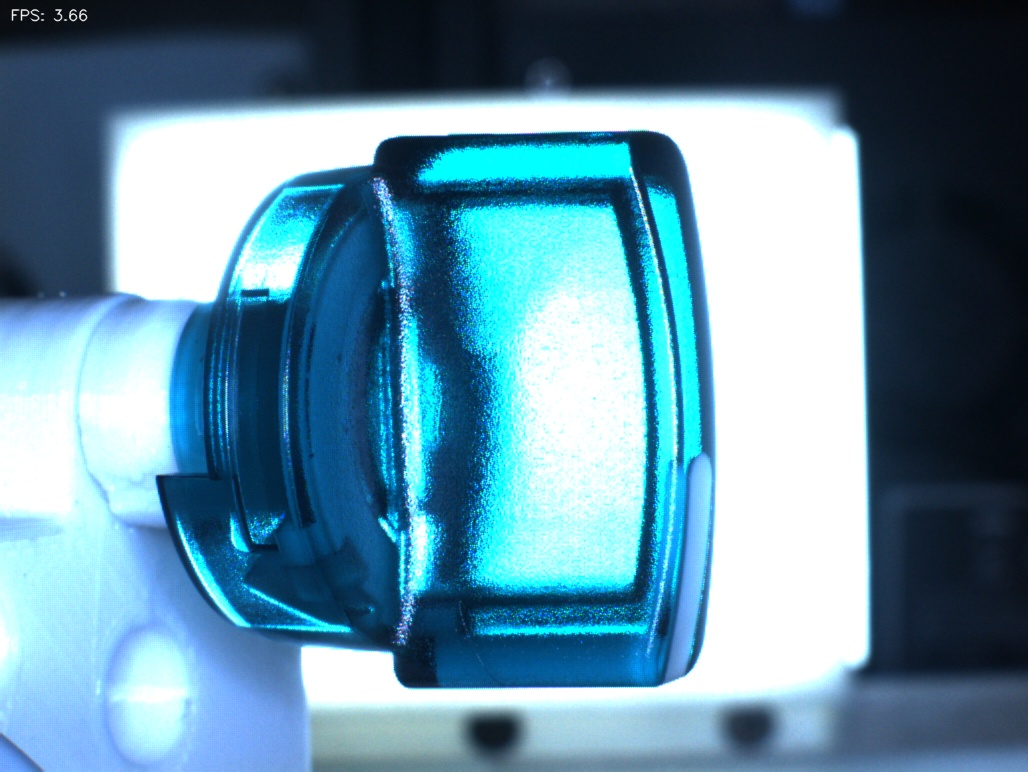PointNoir: (271, 412, 348, 486), (311, 326, 377, 393)
